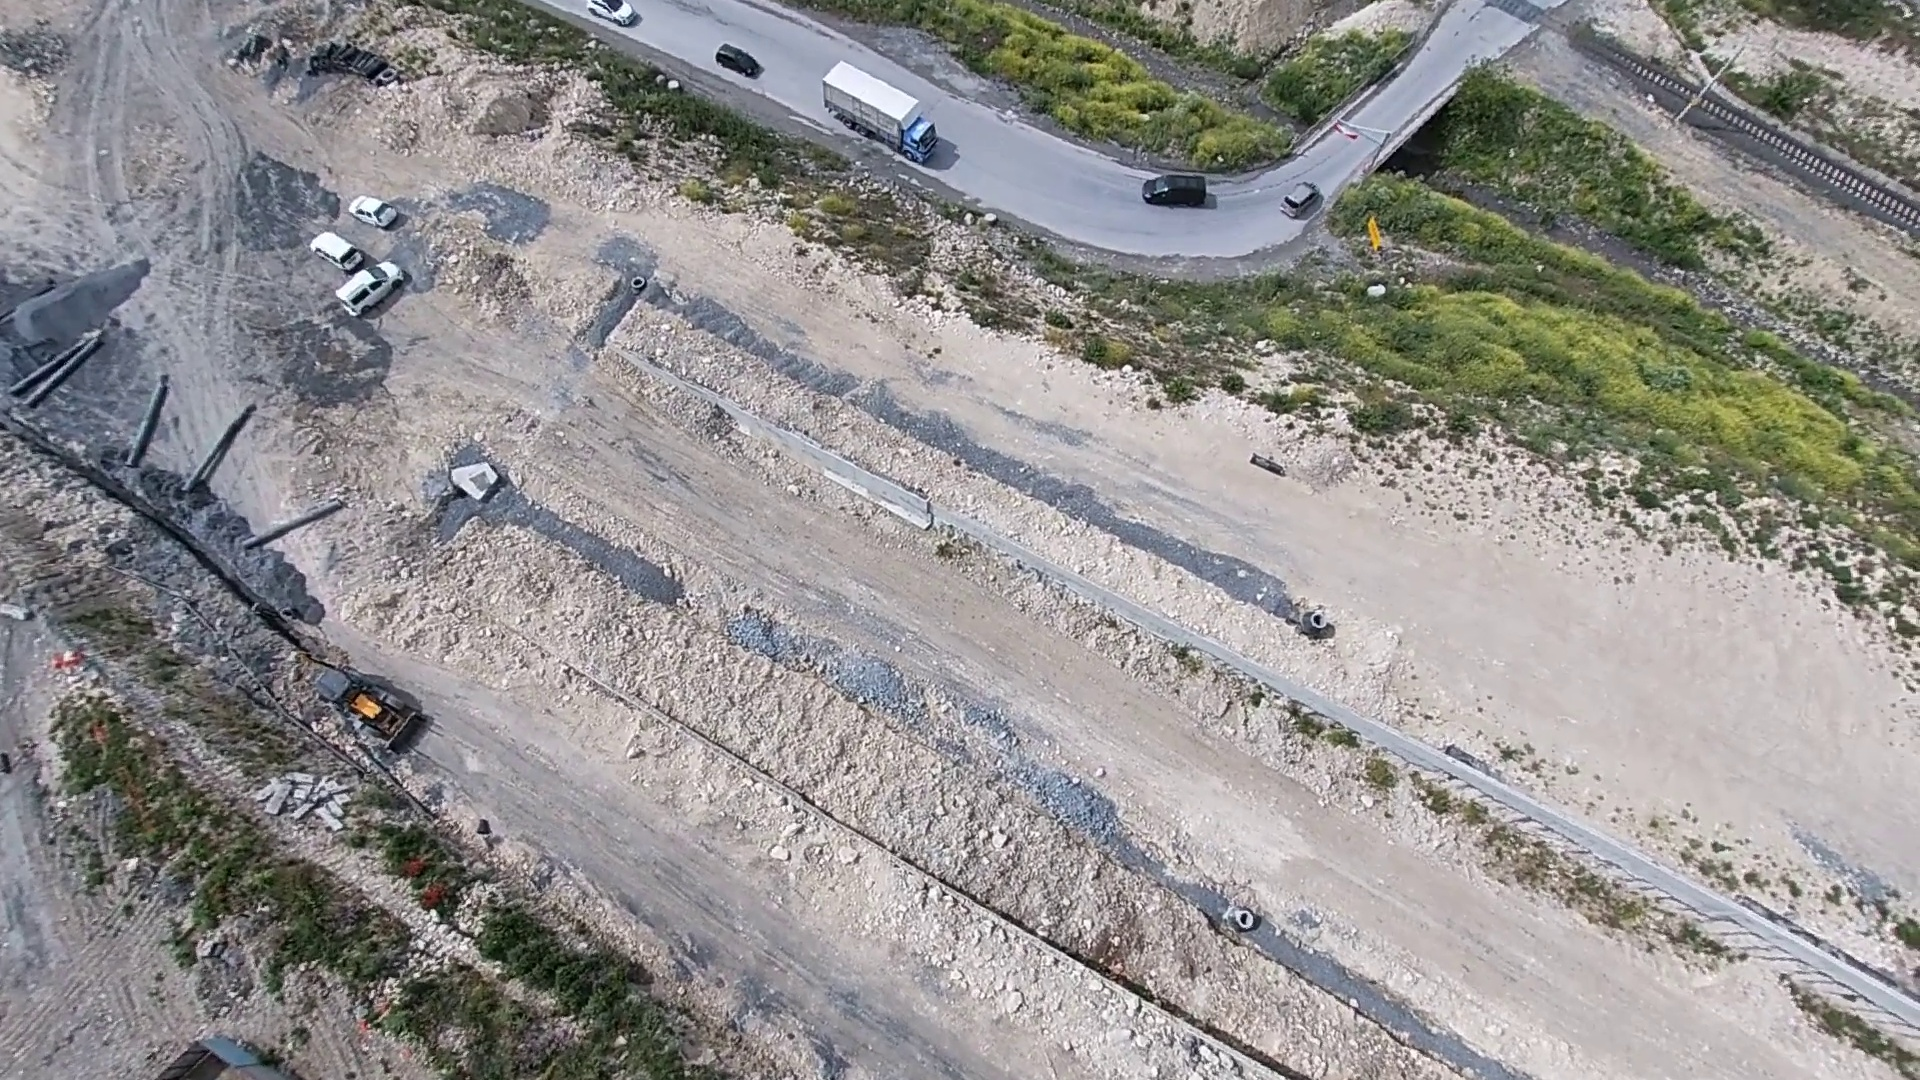araba: (331, 258, 411, 315), (305, 222, 368, 278), (342, 185, 405, 240), (1138, 169, 1213, 208), (584, 1, 647, 36), (717, 37, 761, 84), (1276, 179, 1327, 219)
kamyon: (820, 50, 943, 173)
traktor: (307, 669, 431, 748)
